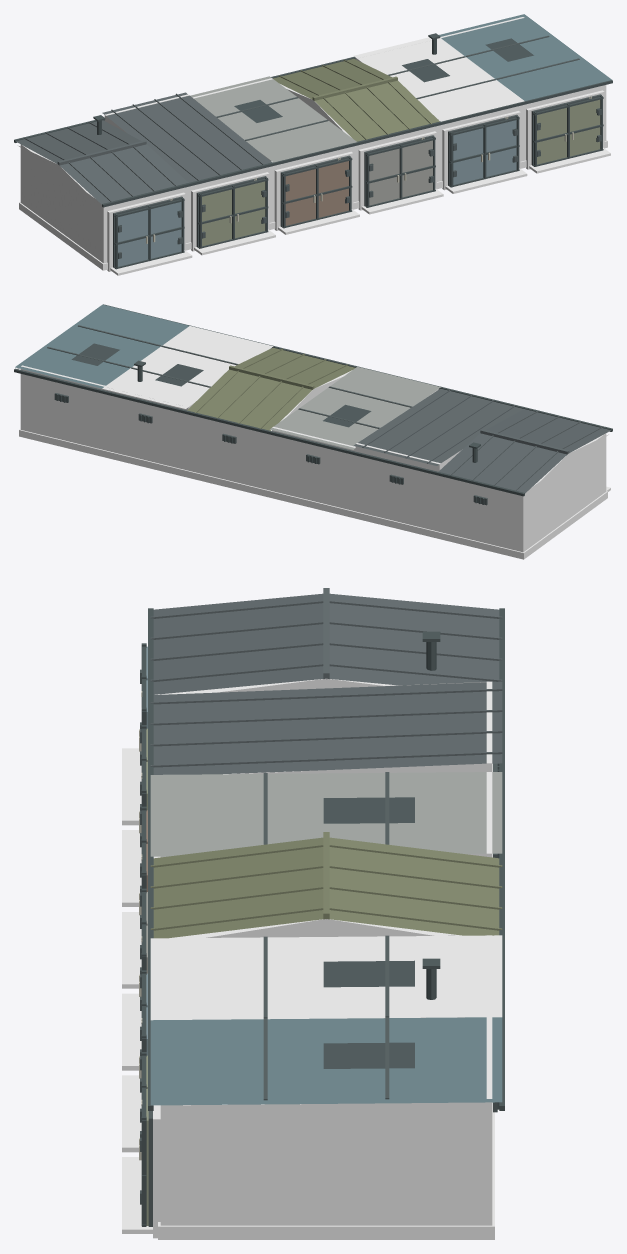
File: frontier_garage_row_0.glb
3 renders of one model, top to bottom at view 1: azimuth 30°, elevation 25°; view 2: azimuth 150°, elevation 25°; view 3: azimuth 270°, elevation 25°, orthographic. The views are drawn at different scales.
Visible parts, largest first — view 1: frontier_garage_row_0; view 2: frontier_garage_row_0; view 3: frontier_garage_row_0.
Boxes of the visible parts, x1,y1,x2,y2 form: frontier_garage_row_0: (14,14,612,275); frontier_garage_row_0: (14,304,612,559); frontier_garage_row_0: (122,588,504,1239).
Bounding box in the file's own units: 21.3 × 3.55 × 6.93.
